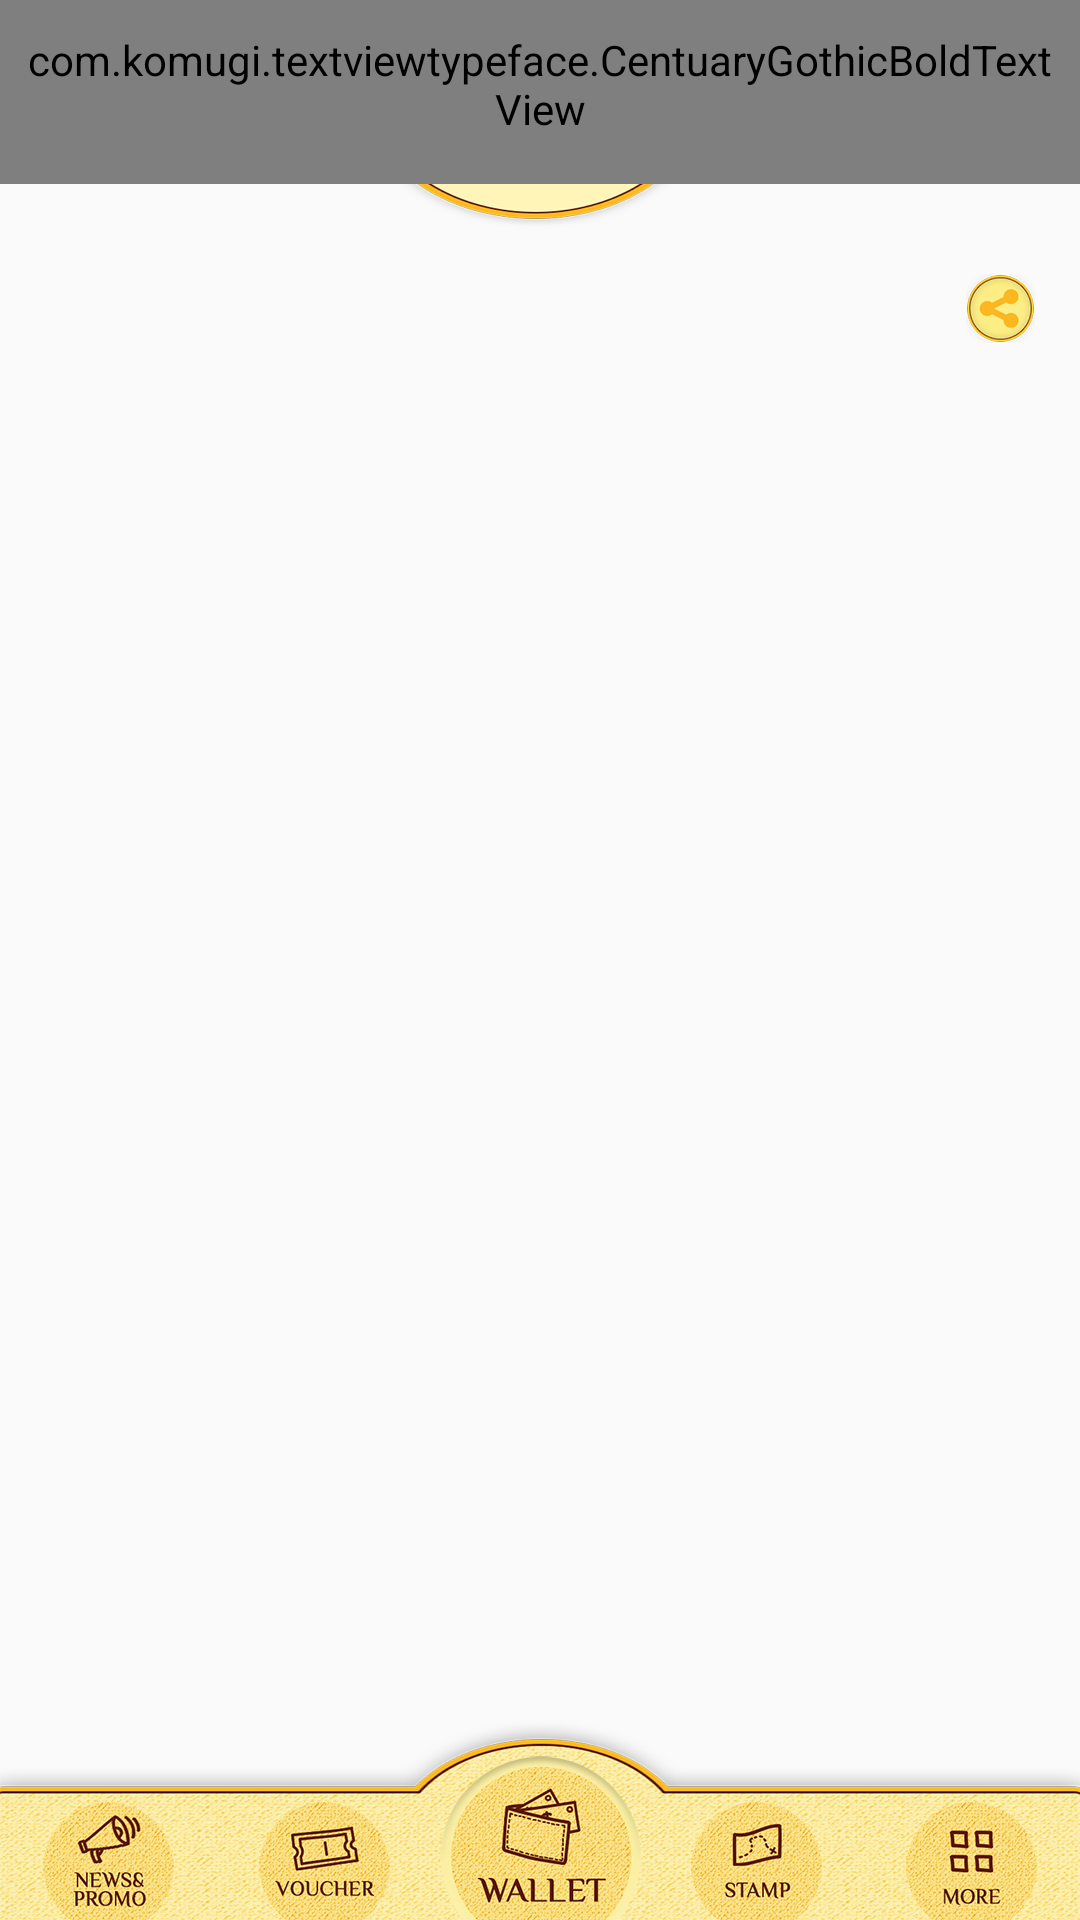

Point at icon controls on the screen. Image size 1080*1920, points as point (x, y).
share: point (1000, 308)
